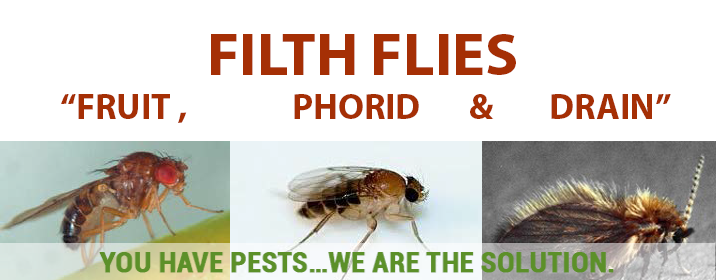phorid fly: (267, 160, 439, 248)
